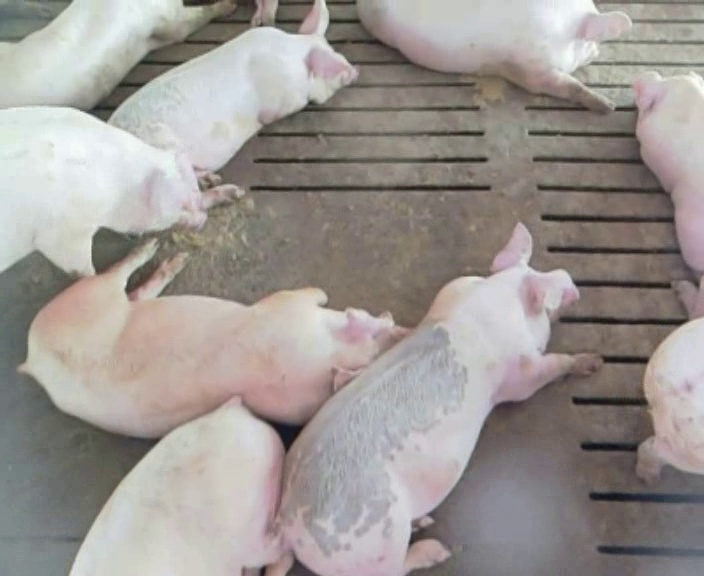pig: (281, 223, 600, 574), (19, 239, 405, 435), (109, 2, 357, 208), (70, 397, 293, 575), (358, 2, 630, 111), (0, 2, 235, 108), (633, 72, 703, 317), (637, 317, 703, 479)
